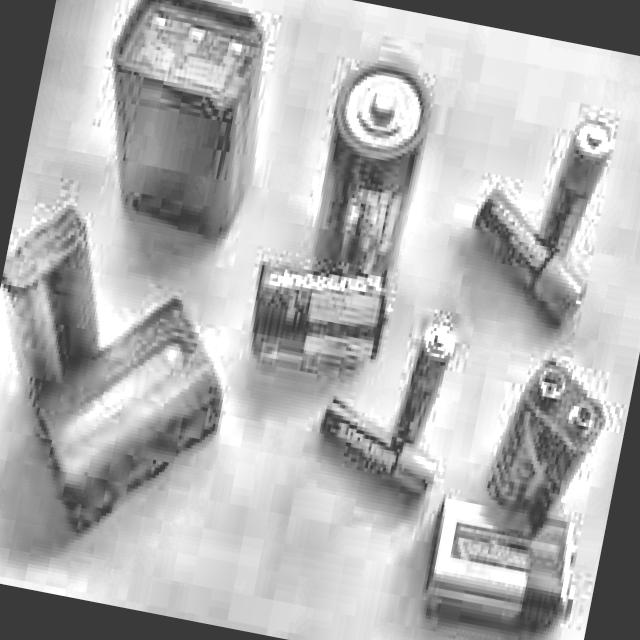Battery: (12, 273, 240, 559), (78, 0, 283, 242), (306, 47, 438, 276), (0, 202, 121, 406), (479, 350, 610, 520), (418, 500, 584, 628), (242, 247, 394, 385), (457, 198, 597, 340), (304, 401, 442, 516), (533, 117, 615, 248), (388, 320, 458, 456)
